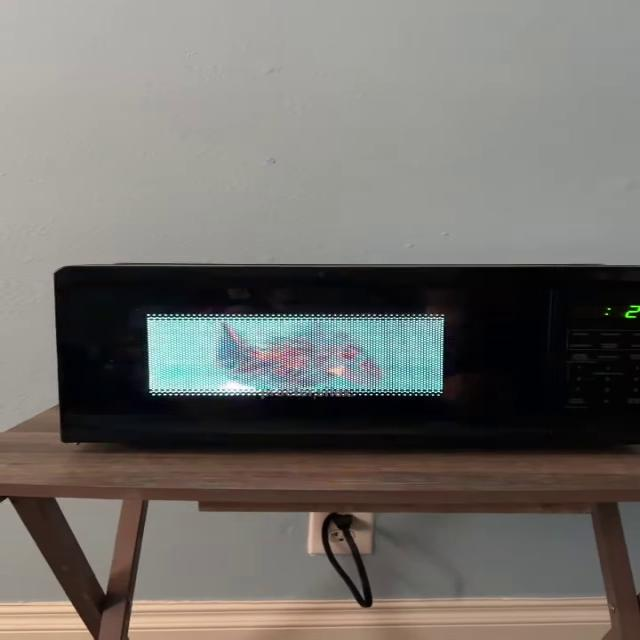fire: (143, 314, 456, 398)
